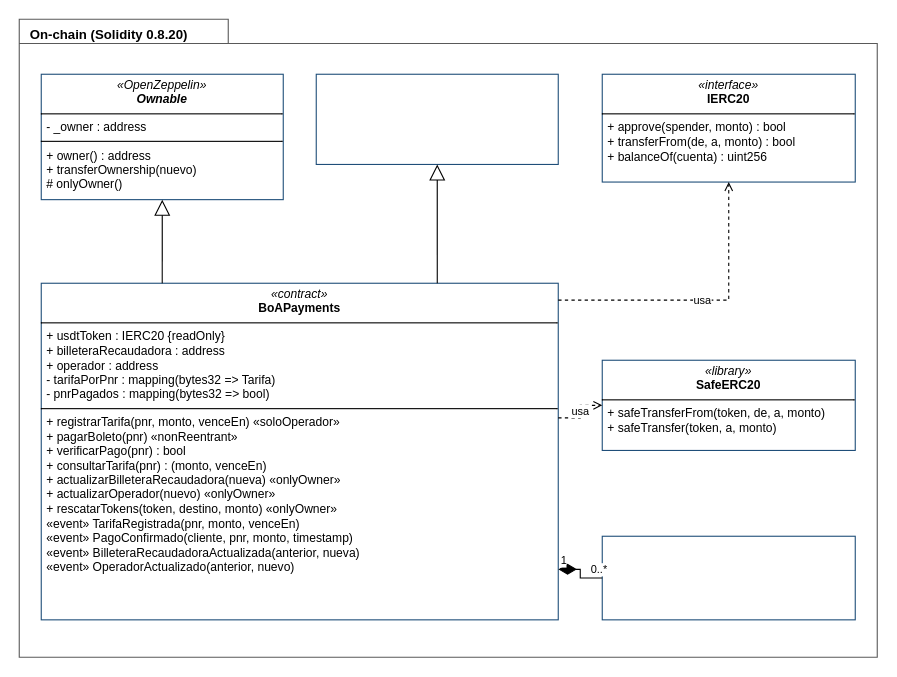
Some shapes in this 897 by 677 pixel diagram are drawn without their labels. The centre of each missing label's shape, as x and y in pixels:
"«OpenZeppelin» ReentrancyGuard - _status : uint256 # nonReentrant()" belongs at pixel 436 118.
"«struct» Tarifa + monto : uint256 + venceEn : uint64" belongs at pixel 728 577.
